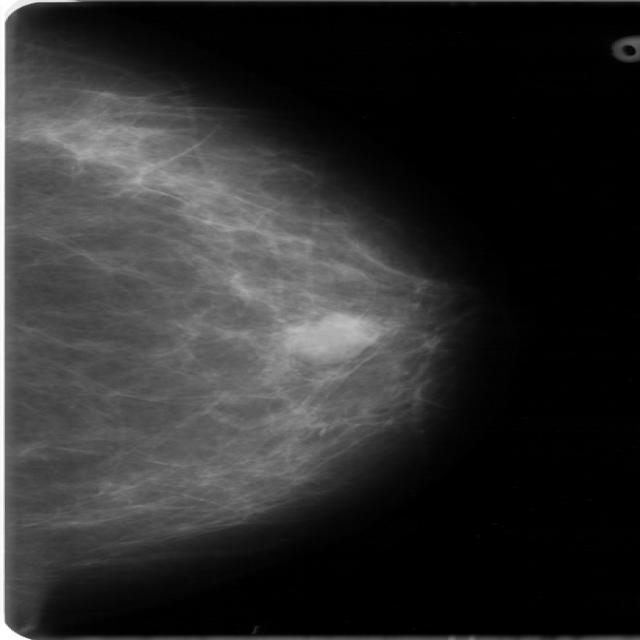tumour: (279, 311, 381, 359)
